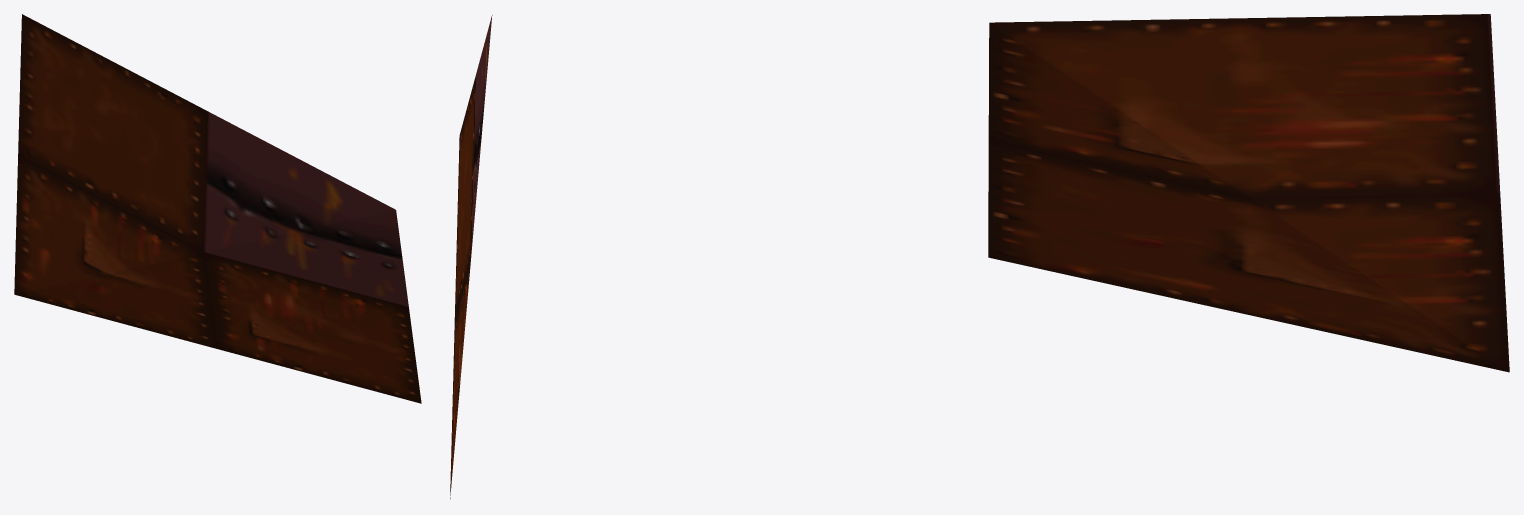
Rendered from Schiff_Bug1_1247.glb.
The picture shows the model from 3 angles, left to right: view 1: azimuth 30°, elevation 25°; view 2: azimuth 150°, elevation 25°; view 3: azimuth 270°, elevation 25°; orthographic projection. The views are drawn at different scales.
Parts seen in each view (by area): view 1: pPlaneShape29; view 2: pPlaneShape29; view 3: pPlaneShape8.
Boxes of the visible parts, <box> form: pPlaneShape29: <box>14,14,421,403</box>; pPlaneShape29: <box>450,15,492,499</box>; pPlaneShape8: <box>988,14,1509,372</box>.
Bounding box in the file's own units: 1.25 × 0.8771 × 1.14.
Materials: 2 (2 with a texture image).
